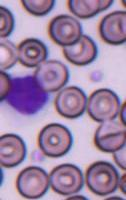L: (3, 72, 51, 118)
